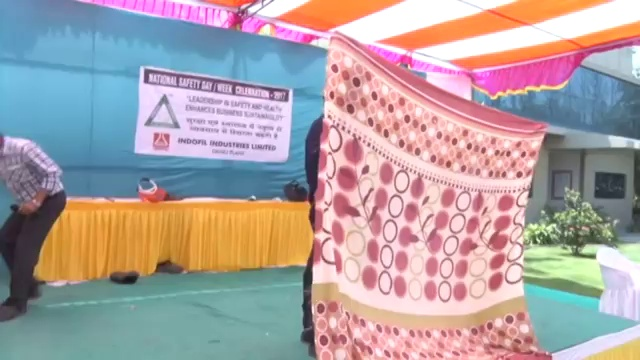person: (1, 132, 68, 319)
